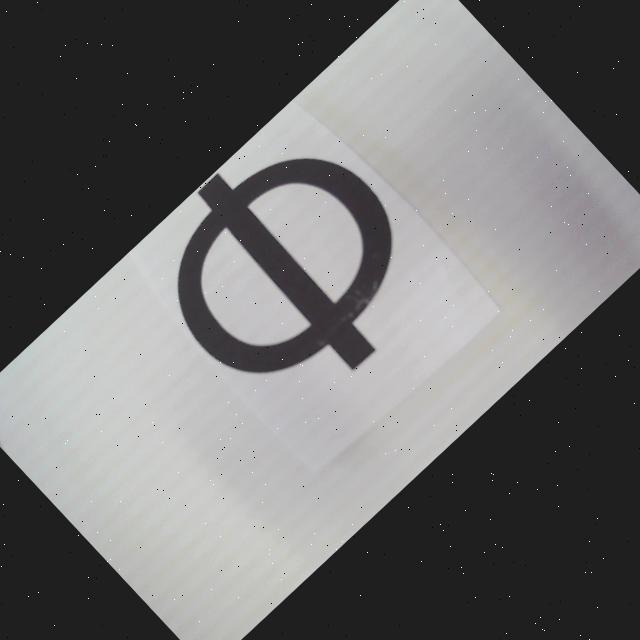PHI: (122, 104, 454, 436)
